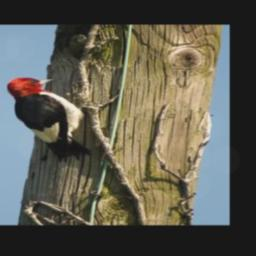Woodpecker: (4, 76, 103, 162)
